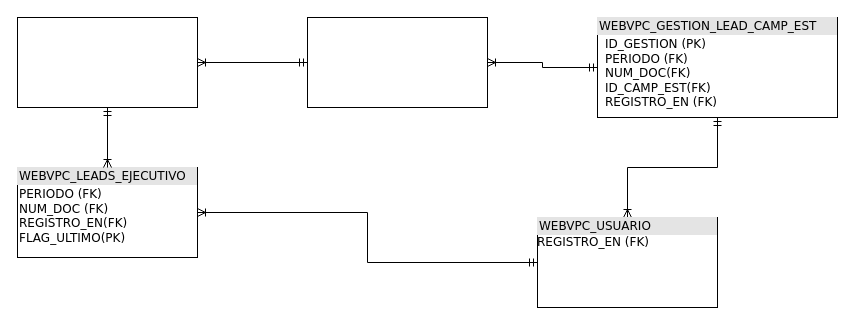
Image size: 855x325. Some labels were removed from this diagram. The box of each missing label's shape, as (x1, y1, x2, y2) in pixels:
WEBVPC_LEAD PERIODO (PK) NUM_DOC (PK): (16, 16, 198, 108)
WEBVPC_LEAD_CAMP_EST PERIODO (FK) NUM_DOC (FK) ID_CAMP_EST(PK): (306, 16, 488, 108)
